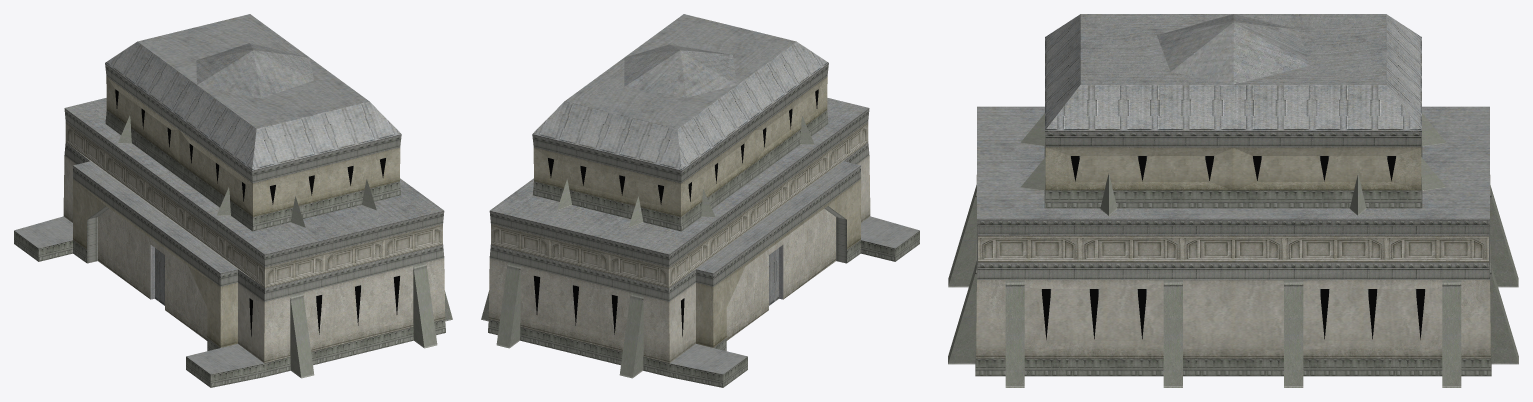
Rendered from thm_corl_imprv_historic_24x16_s01_l2.fbx.
3 renders of one model, left to right at view 1: azimuth 30°, elevation 25°; view 2: azimuth 150°, elevation 25°; view 3: azimuth 270°, elevation 25°, orthographic. The views are drawn at different scales.
Visible parts, largest first — view 1: mesh_node; view 2: mesh_node; view 3: mesh_node.
Boxes of the visible parts, box(x1,y1,x2,y2) form: mesh_node: box(14, 14, 452, 387); mesh_node: box(481, 14, 919, 387); mesh_node: box(948, 14, 1518, 387).
Size of the model in its own units: 15.54 by 13.66 by 23.81.
